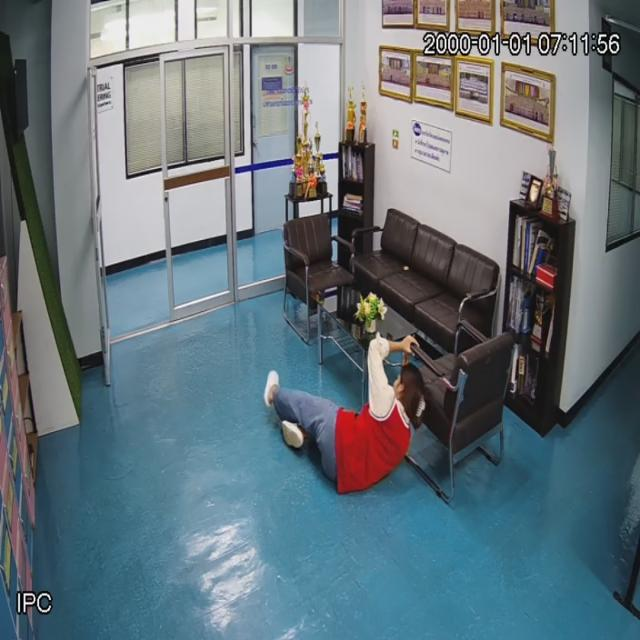fall: (264, 367, 434, 492)
